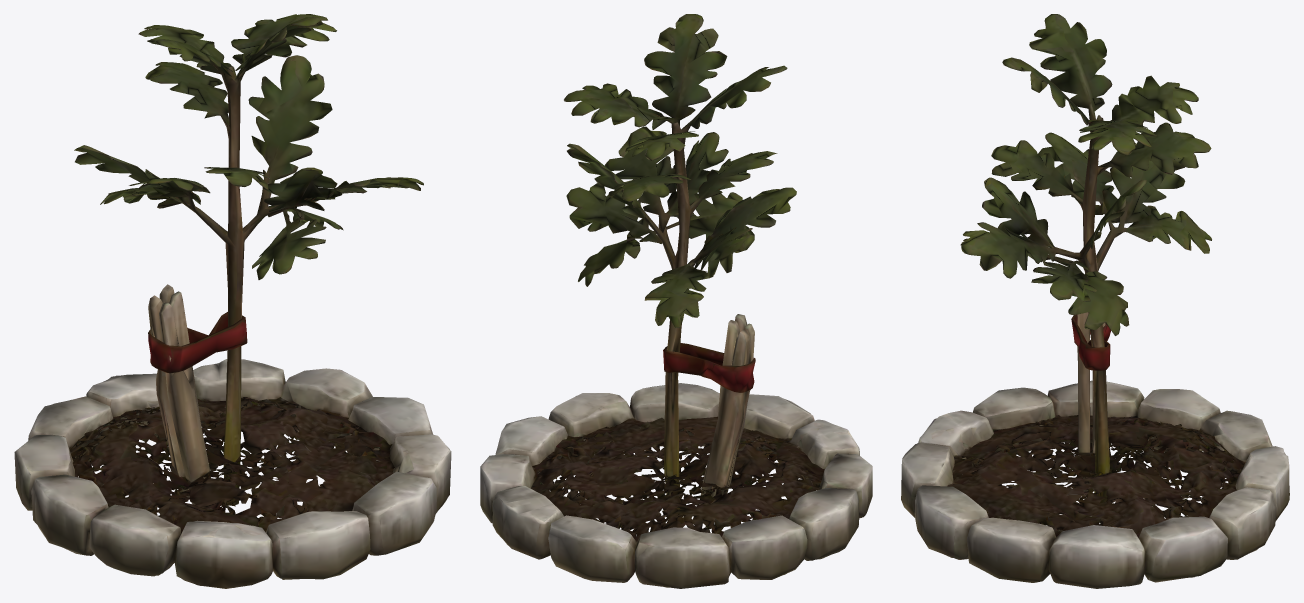
Rendered from nature_citizen-tree_stage1.glb.
3 renders of one model, left to right at view 1: azimuth 30°, elevation 25°; view 2: azimuth 150°, elevation 25°; view 3: azimuth 270°, elevation 25°, orthographic. The views are drawn at different scales.
Parts seen in each view (by area): view 1: world; view 2: world; view 3: world.
Part boxes in pixels (box(x1,y1,x2,y2)): world: box(14, 14, 451, 588); world: box(480, 14, 872, 588); world: box(901, 14, 1289, 588).
Size of the model in its own units: 0.6918 by 0.8982 by 0.6791.
Materials: 1 (1 with a texture image).
